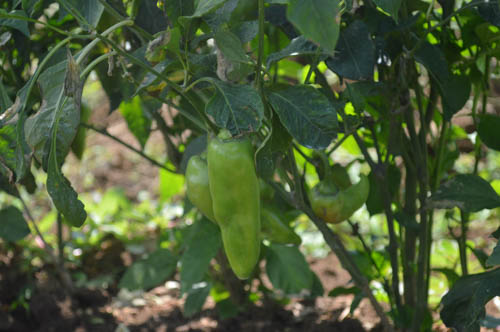ChiliPepper: (181, 157, 303, 244), (211, 137, 266, 280), (310, 179, 342, 223)
